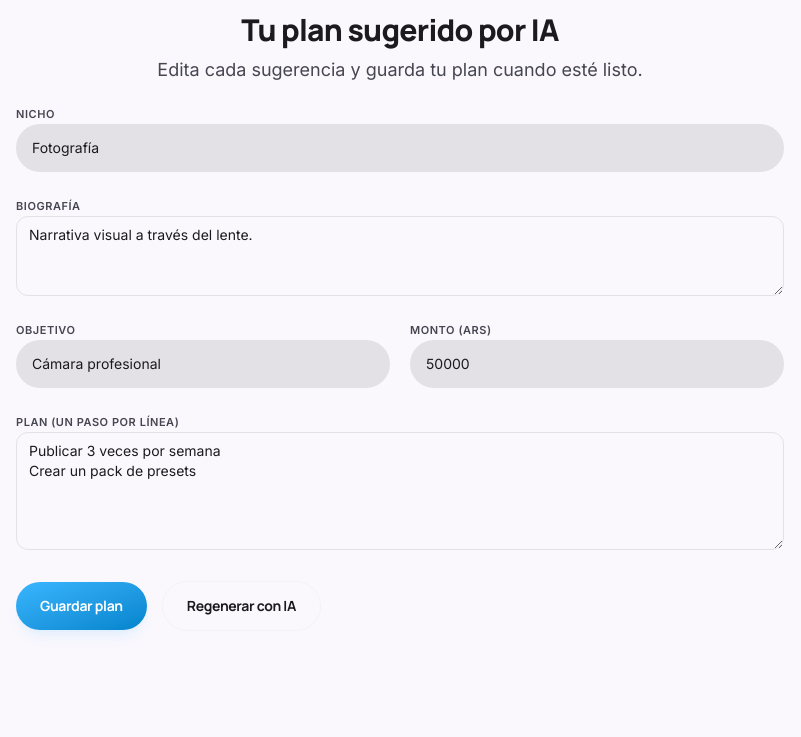
Test: AiResultsCard — REQ-FE-4 › muestra el mensaje de límite diario cuando regenerar devuelve limitado (429) y no reintenta
Click the button "Regenerar con IA" at (241, 606), box top-left (163, 582), bottom-right (320, 630)
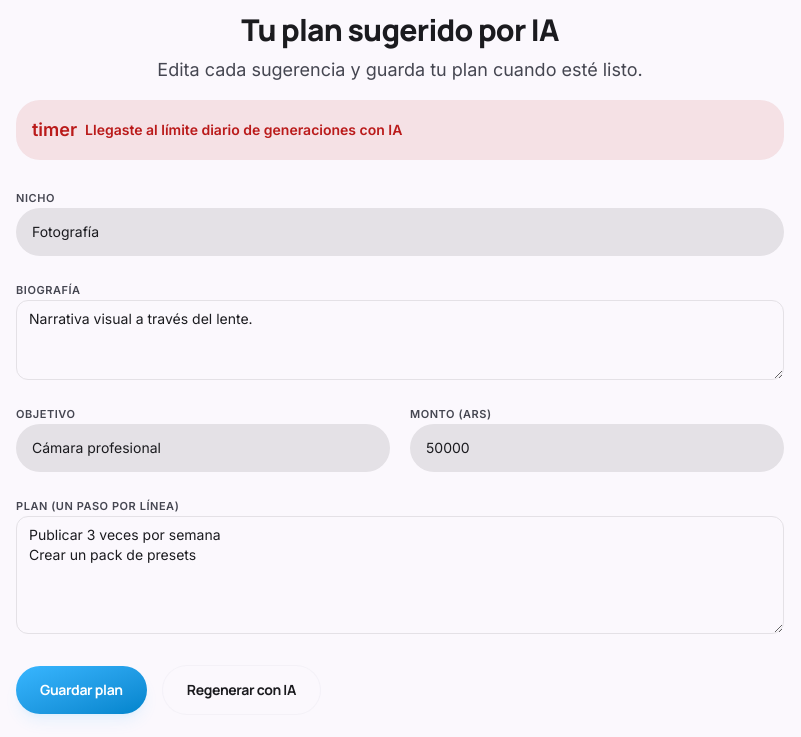
Expected: the message shows "límite diario", top-left (85, 121), bottom-right (402, 138)
